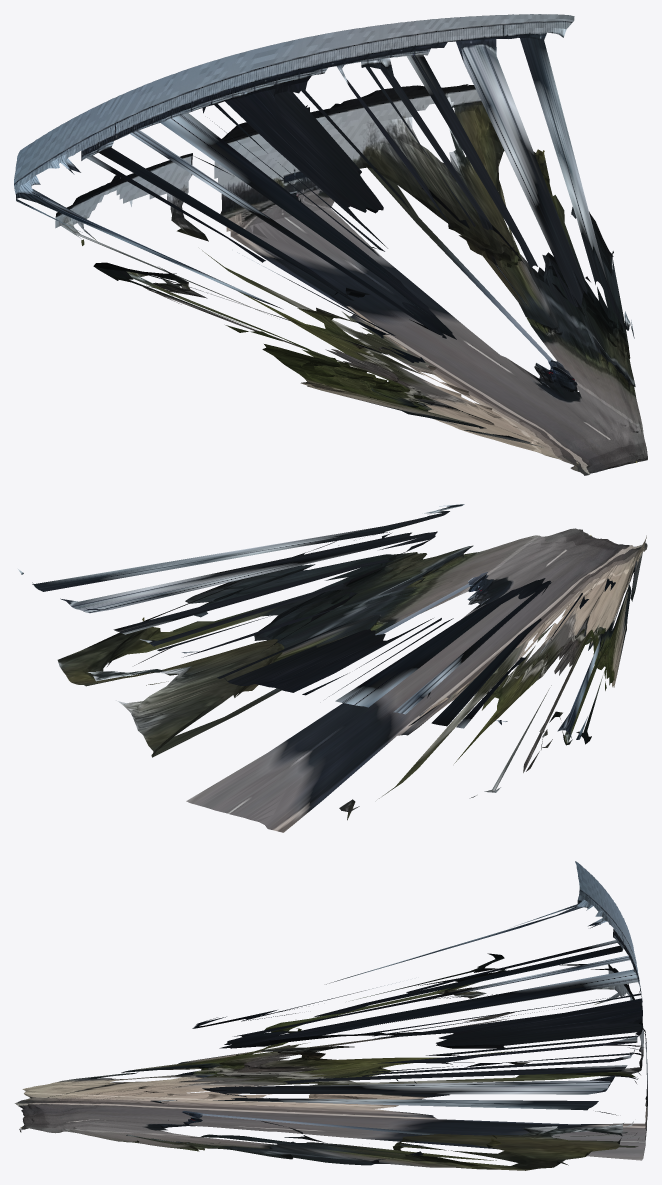
3 renders of one model, top to bottom at view 1: azimuth 30°, elevation 25°; view 2: azimuth 150°, elevation 25°; view 3: azimuth 270°, elevation 25°, orthographic. The views are drawn at different scales.
Visible parts, largest first — view 1: defaultobject; view 2: defaultobject; view 3: defaultobject.
Part boxes in pixels (box(x1,y1,x2,y2)): defaultobject: box(14, 14, 647, 475); defaultobject: box(18, 504, 647, 832); defaultobject: box(14, 861, 647, 1170).
Size of the model in its own units: 40.22 by 12.85 by 44.86.
1 material, 1 textured.
